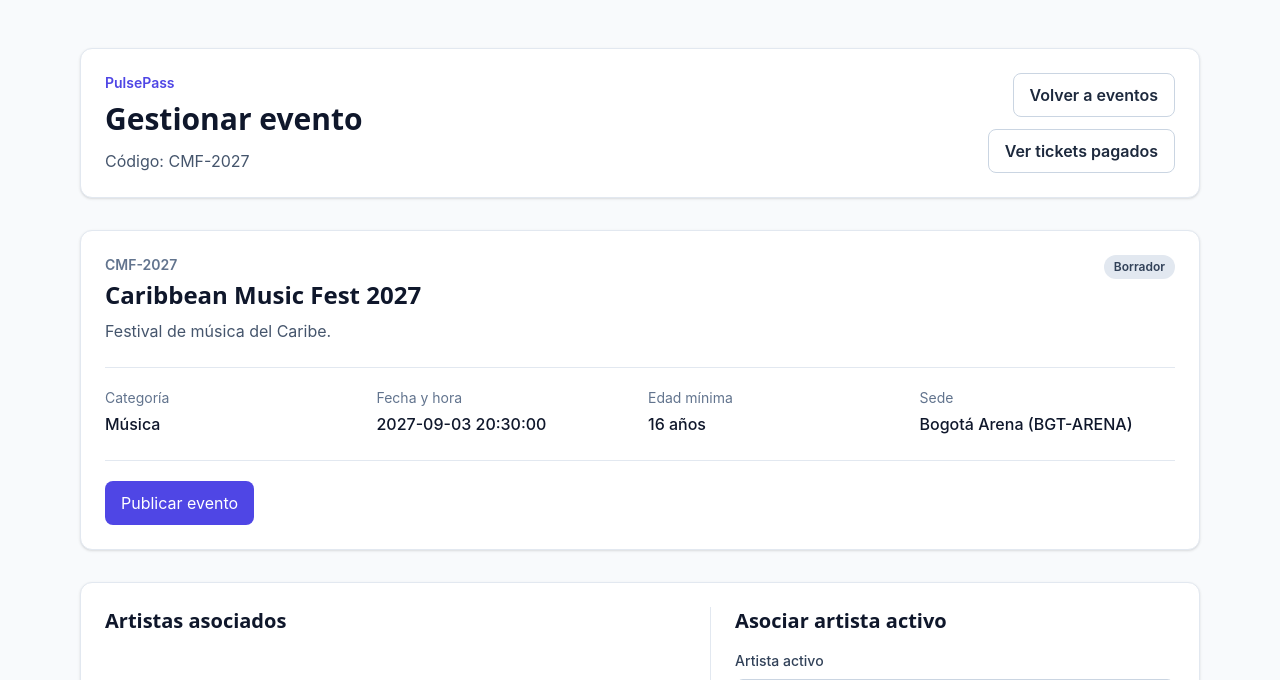
flujos ADMIN de eventos › TEST-FE-ADM-005 conserva el estado DRAFT y la confirmación ante 409 al publicar
expect the text "Borrador" is shown: met, box [1104, 255, 1175, 279]
Click the button "Publicar evento": (180, 503) [105, 481, 254, 525]
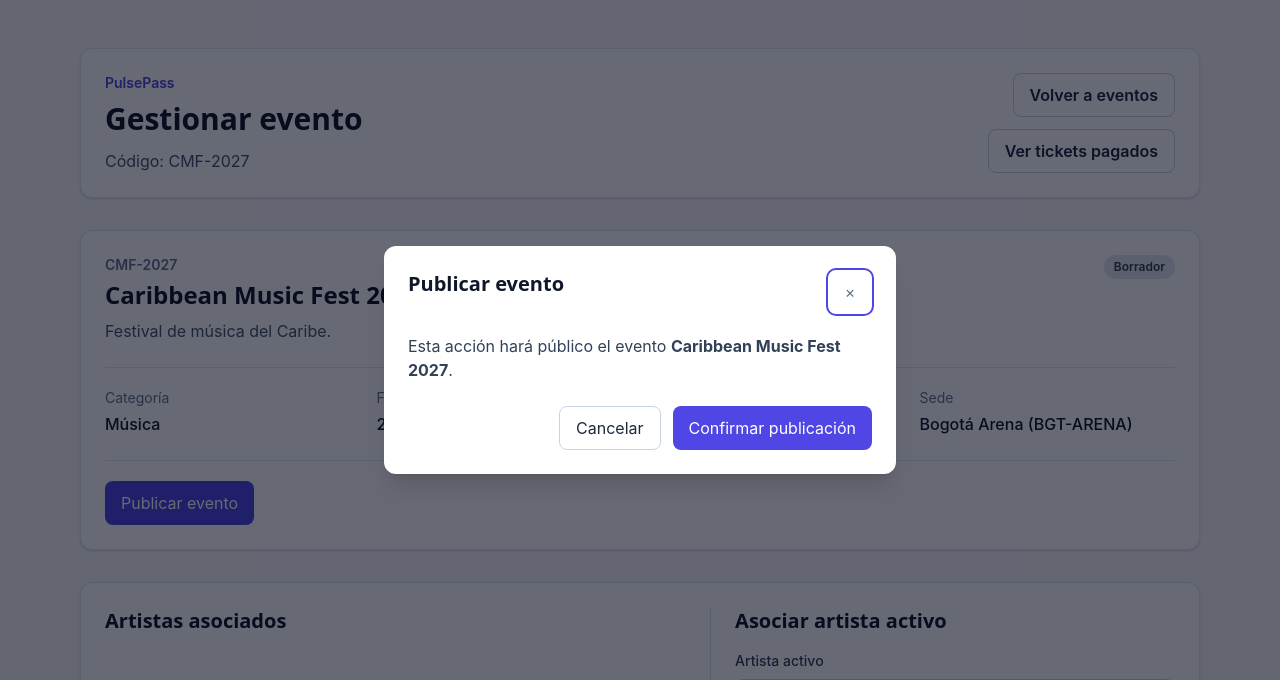
Click the button "Confirmar publicación": (772, 428) [672, 406, 872, 450]
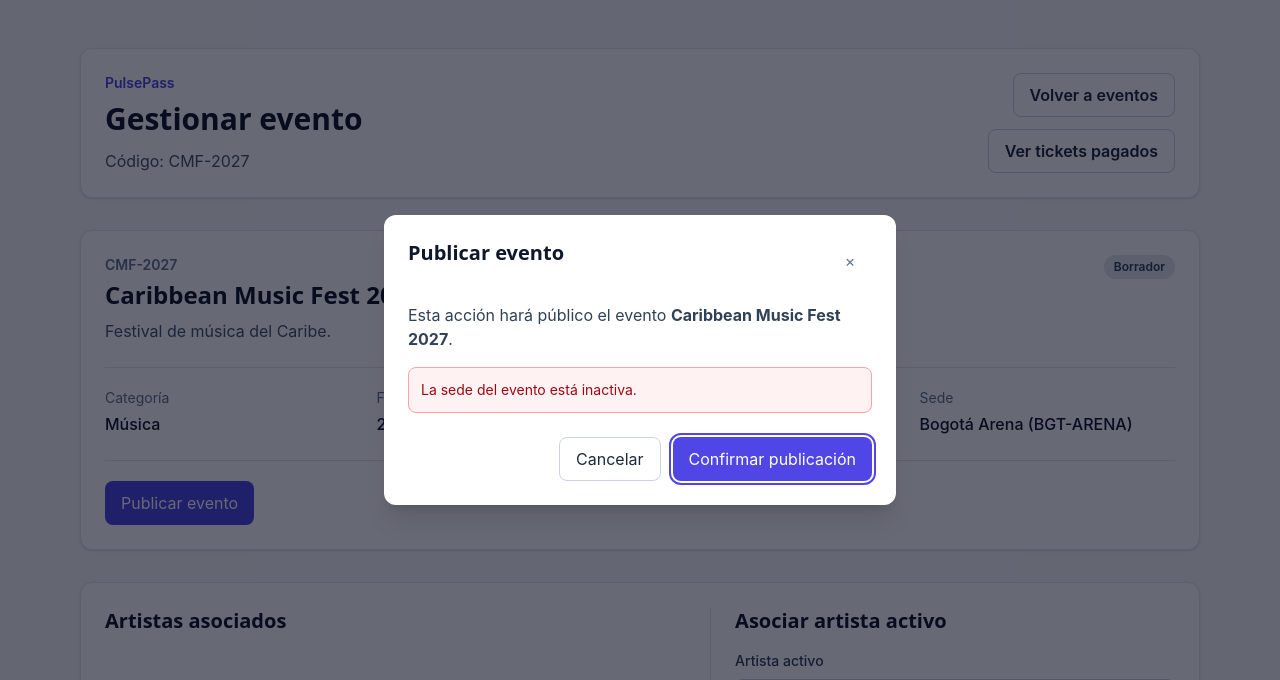
expect the text "Borrador" is shown: met, box [1104, 255, 1175, 279]
expect the dialog "Publicar evento" is shown: met, box [384, 215, 896, 505]
expect the message reads "La sede del evento está inactiva.": met, box [421, 381, 637, 398]
